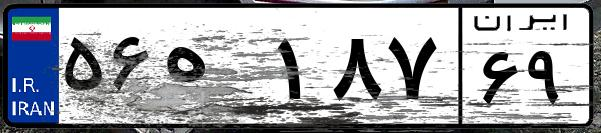1: (270, 28, 330, 110)
5: (57, 26, 110, 100)
6: (475, 38, 525, 113), (110, 28, 158, 98)
7: (385, 28, 445, 110)
8: (330, 28, 385, 110)
9: (525, 38, 570, 115)
ه: (158, 20, 270, 120)
